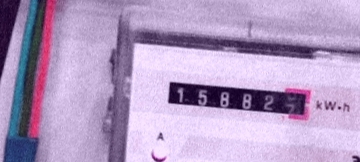1: (174, 85, 186, 104)
2: (262, 92, 275, 110)
5: (195, 87, 209, 105)
7: (283, 101, 296, 115)
8: (218, 89, 231, 107), (241, 92, 253, 109)
screen: (159, 69, 318, 125)
